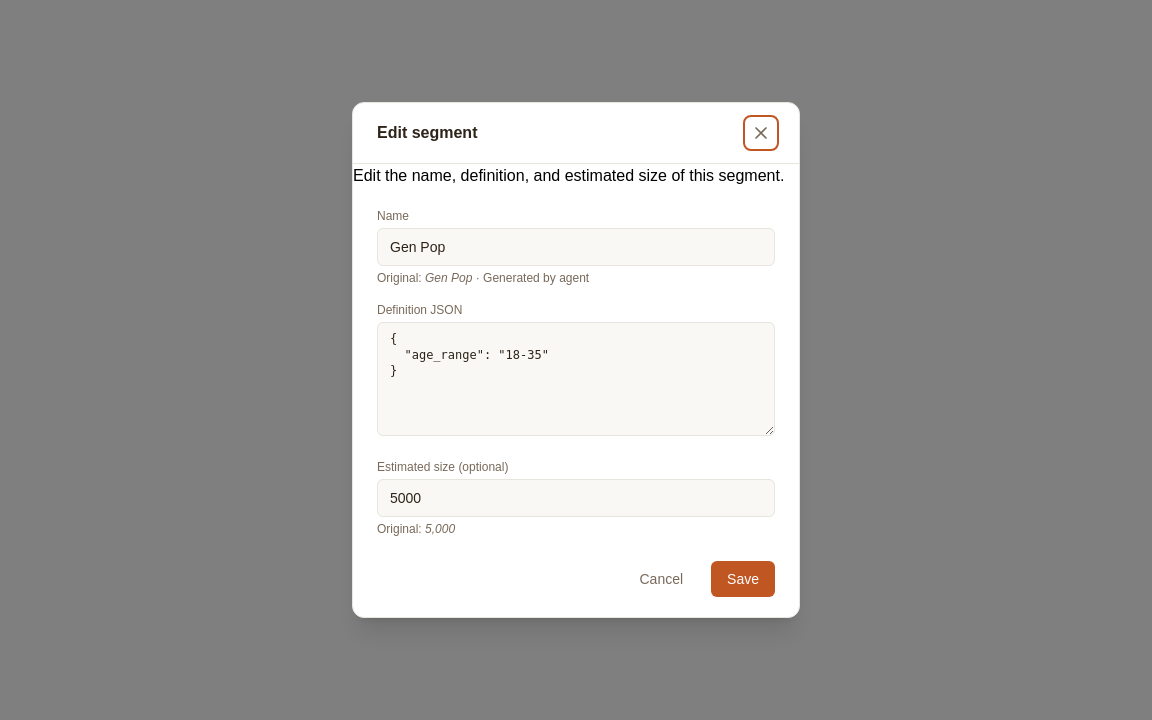
SegmentEditModal › form validation › shows error when estimated size is negative
Replace the text in the number field labelled "Estimated size (optional)" with "-1" at (576, 498), box [377,479,775,517]
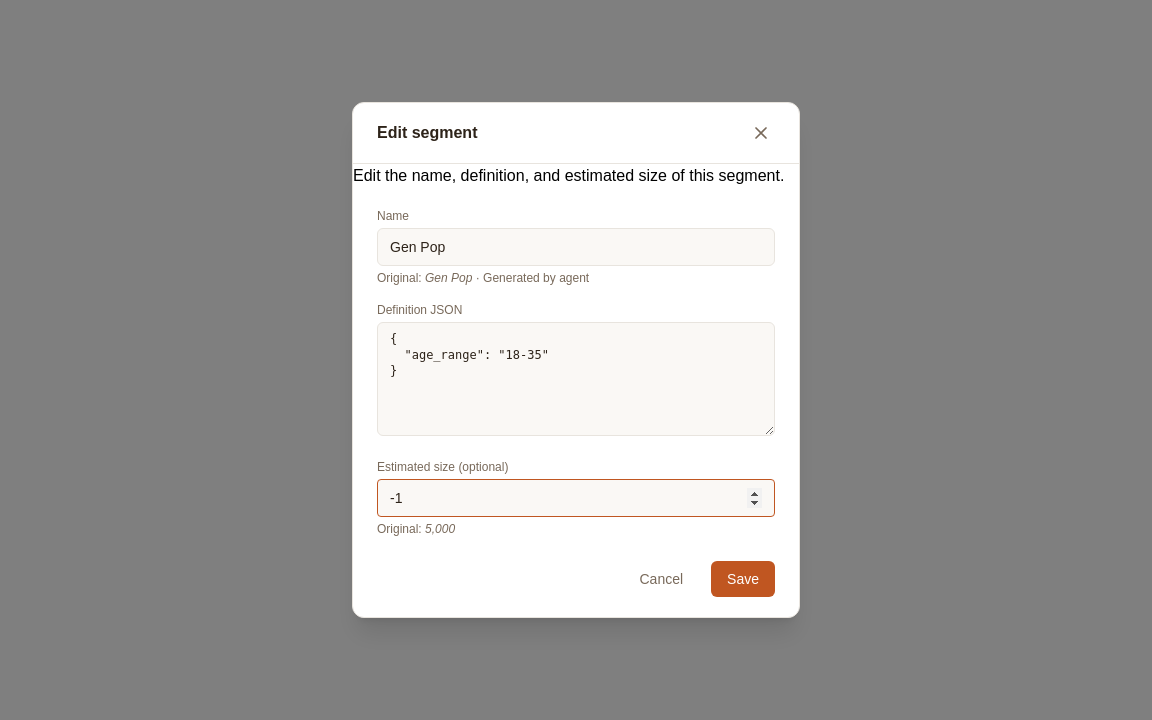
Click the button "Save" at (743, 579), box [711,561,775,597]
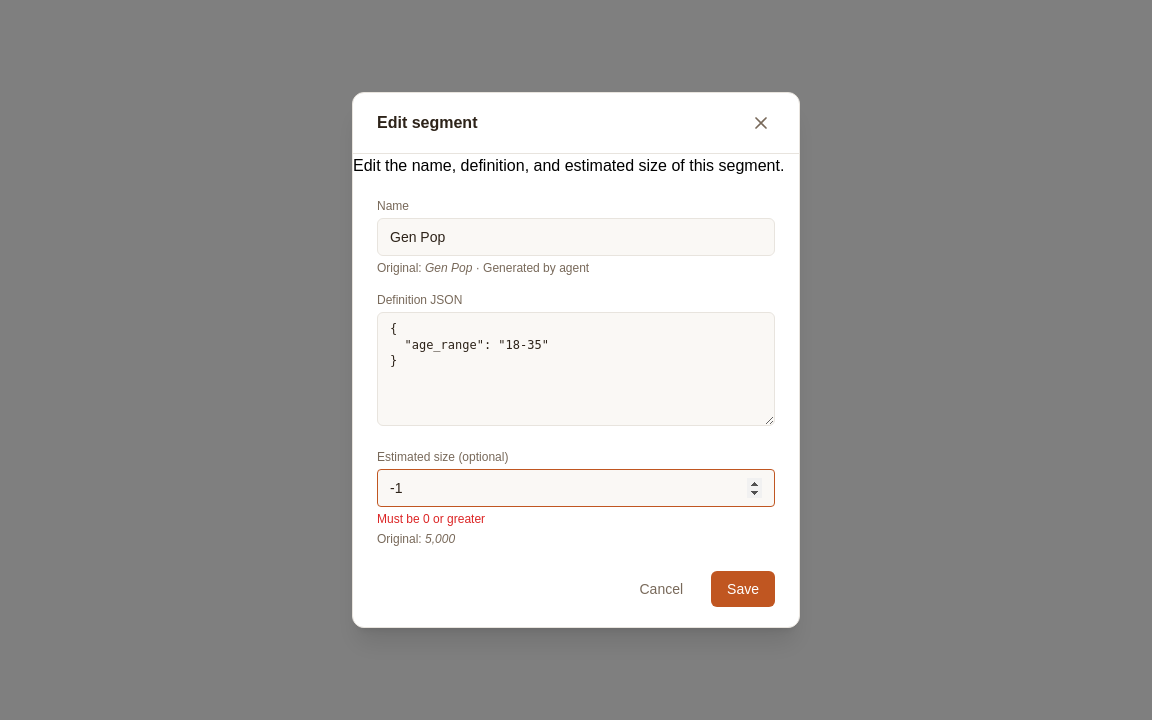
Expected: the message shows "0 or greater", [377,512,485,526]
